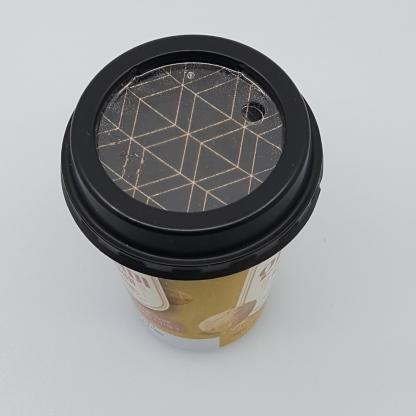--------------250ML: (60, 34, 323, 351)
